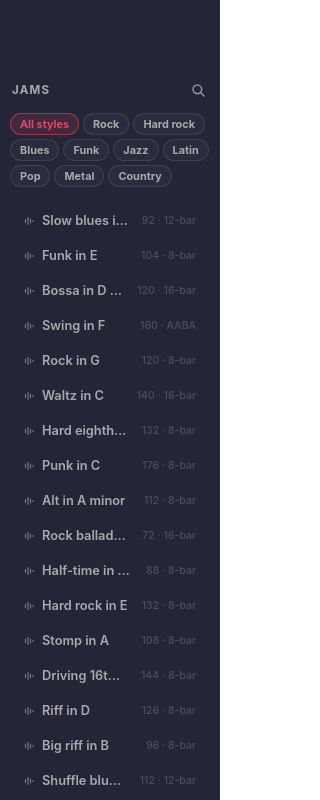
Test: PresetSidebar — the jam library › says so when a search matches no jam
Click the button named "Search the library" at (198, 90), box [185,77,211,103]
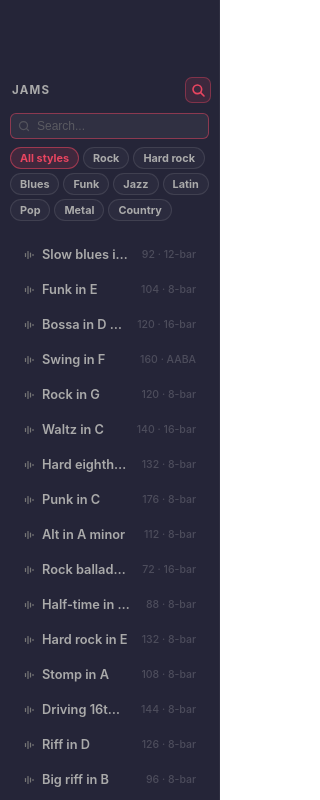
Check: the field with placeholder "Search..." is shown
Type "polka" into the field with placeholder "Search..." at (110, 126), box [10,113,209,139]
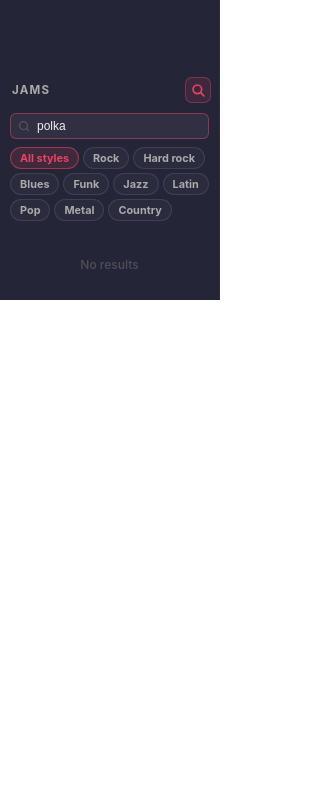
Check: the text "No results" is shown, box [80,257,139,272]
